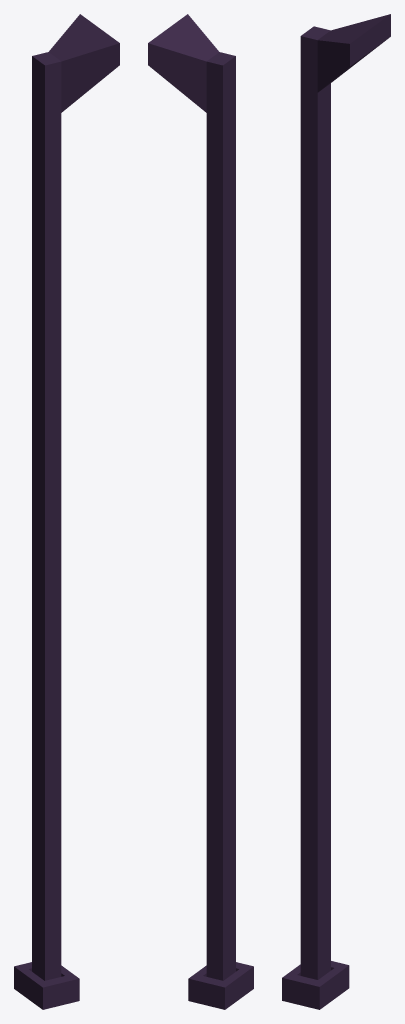
File: streetlight.glb
The picture shows the model from 3 angles, left to right: view 1: azimuth 30°, elevation 25°; view 2: azimuth 150°, elevation 25°; view 3: azimuth 330°, elevation 25°; orthographic projection. The views are drawn at different scales.
Visible parts, largest first — view 1: lightpost; view 2: lightpost; view 3: lightpost.
Part boxes in pixels (left/top/right/bottom): lightpost: left=14, top=14, right=119, bottom=1009; lightpost: left=148, top=14, right=253, bottom=1009; lightpost: left=282, top=14, right=390, bottom=1009.
Size of the model in its own units: 0.6442 by 8.2 by 0.6204.
1 material, 1 textured.
